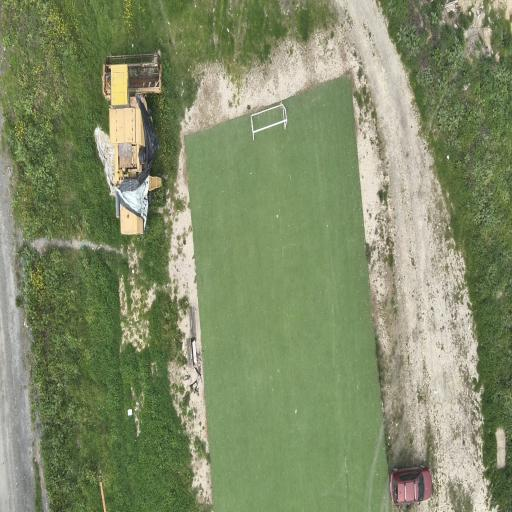car: (390, 467, 432, 504)
harvester: (103, 53, 161, 234)
